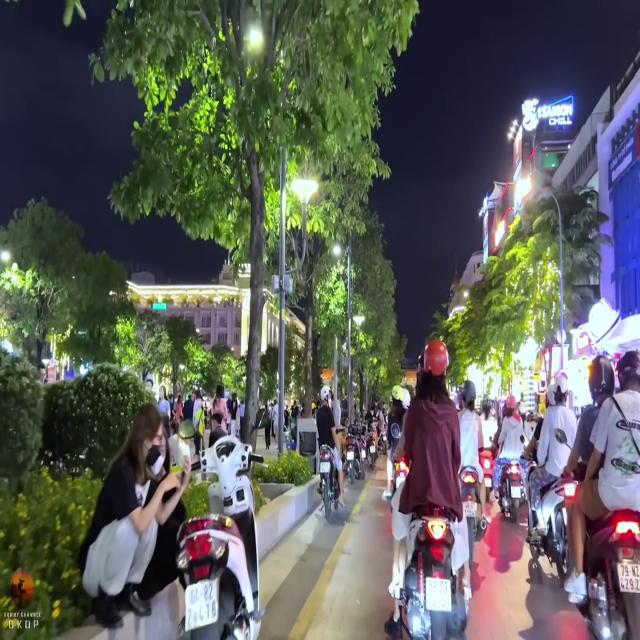bien_trang: (176, 571, 234, 640), (612, 554, 640, 615)
